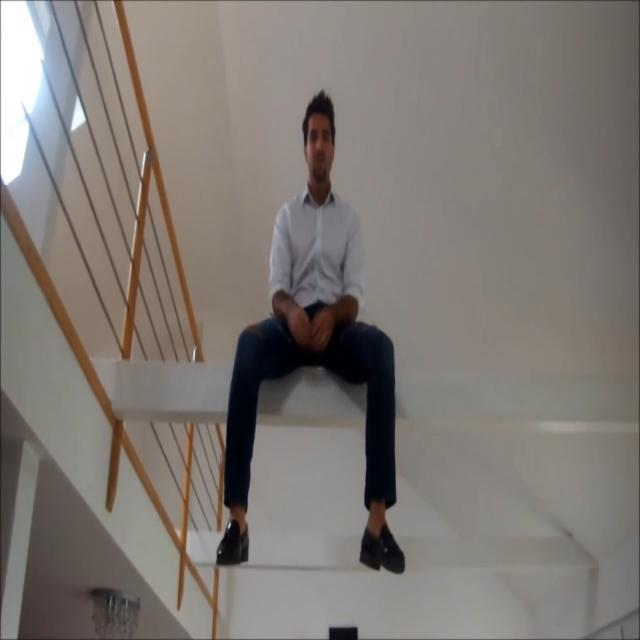shirt: (267, 180, 365, 319)
